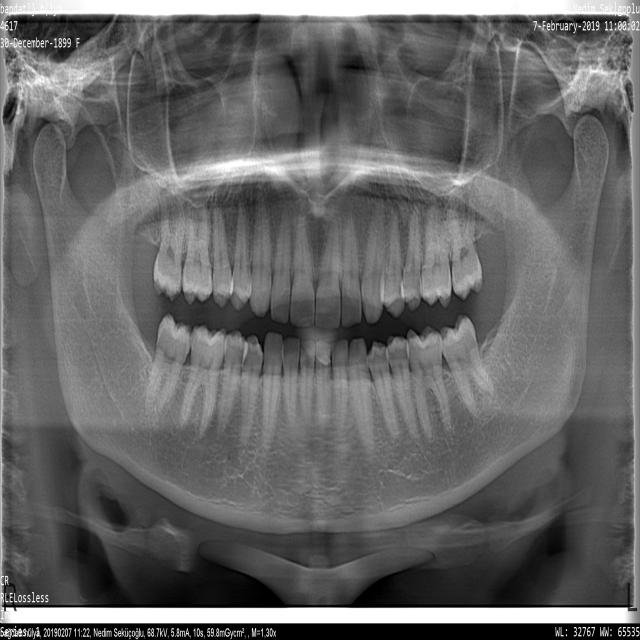Canine: (249, 184, 271, 317), (260, 333, 283, 459), (362, 198, 385, 323), (349, 338, 374, 449)
Incisores: (290, 212, 314, 326), (316, 215, 340, 327), (271, 202, 290, 323), (342, 206, 361, 327), (282, 337, 300, 427), (332, 339, 348, 436), (316, 340, 330, 440), (301, 340, 315, 425)
Premolars: (386, 336, 423, 449), (217, 331, 247, 438), (366, 341, 399, 434), (239, 335, 263, 461), (381, 200, 404, 316), (230, 194, 252, 310), (401, 205, 422, 311), (213, 205, 233, 307)
molars: (439, 315, 495, 418), (144, 313, 192, 427), (179, 325, 226, 439), (406, 326, 451, 440), (153, 183, 185, 301), (451, 185, 482, 300), (420, 204, 451, 307), (183, 201, 213, 304)
